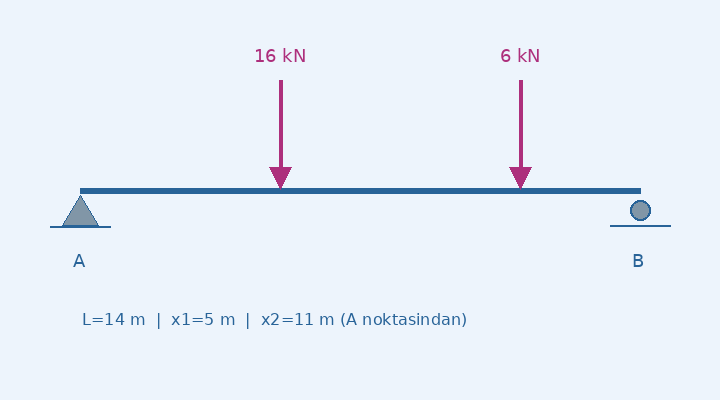pin_support: (61, 190, 99, 226)
point_load: (266, 76, 294, 190), (506, 76, 534, 190)
roller_support: (625, 196, 655, 227)
